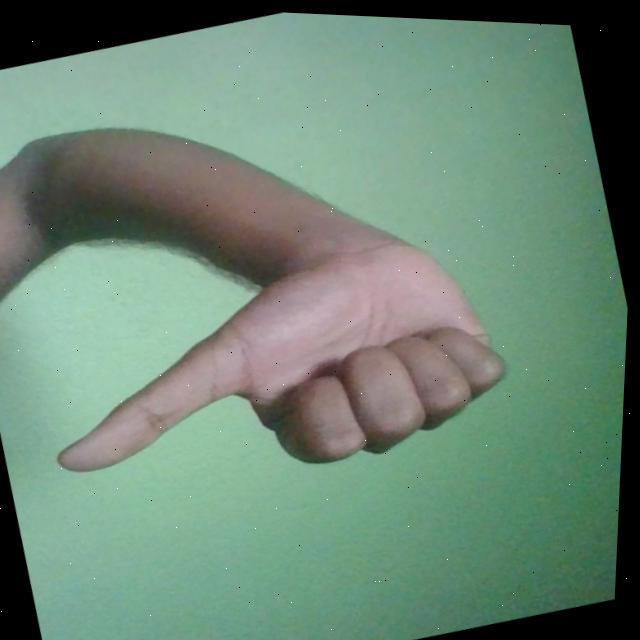Dislike: (25, 203, 526, 532)
